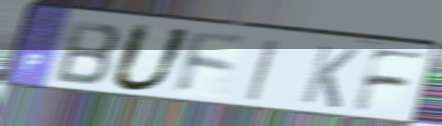B: (52, 19, 124, 88)
F: (348, 46, 431, 115), (173, 28, 249, 97)
I: (244, 37, 283, 103)
K: (298, 43, 362, 111)
U: (106, 21, 196, 94)
